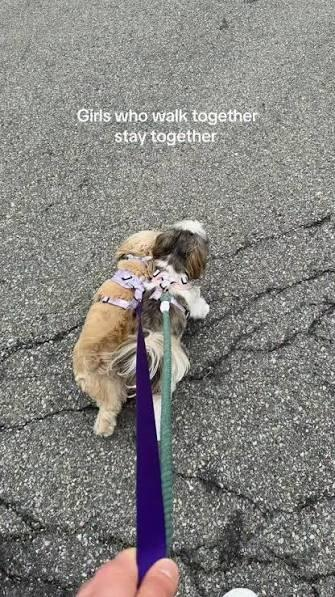adult_dog: (71, 219, 210, 438)
